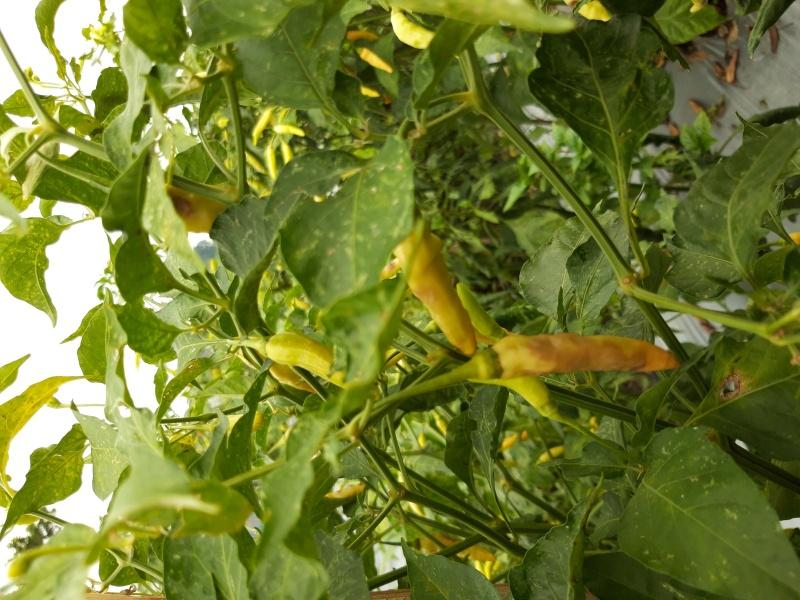antraknosa: (394, 210, 476, 352), (167, 183, 240, 231)
cabai_normal: (267, 329, 361, 389)
lalat_buah: (498, 333, 676, 378)
